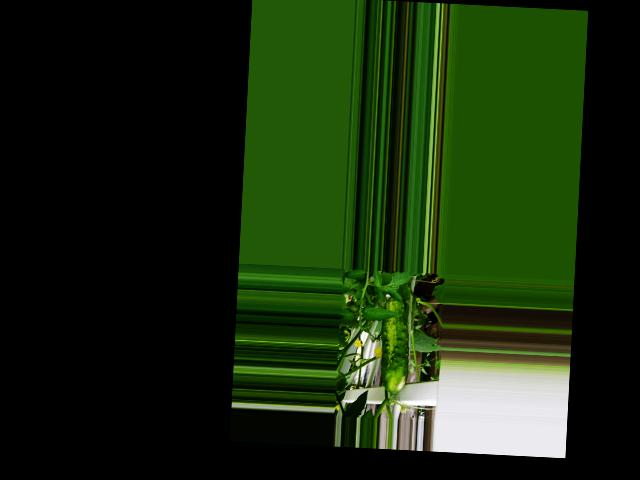cucumber: (379, 297, 411, 394)
